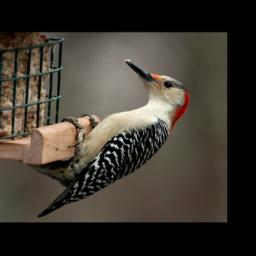Woodpecker: (25, 58, 191, 218)
